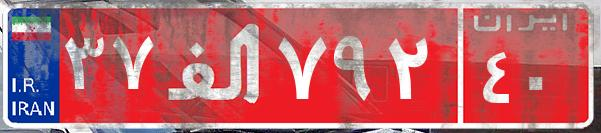0: (525, 38, 570, 115)
2: (385, 28, 445, 110)
3: (57, 26, 110, 107)
4: (475, 38, 525, 113)
7: (273, 28, 330, 110), (110, 28, 158, 105)
9: (330, 28, 385, 110)
الف: (158, 15, 273, 115)
